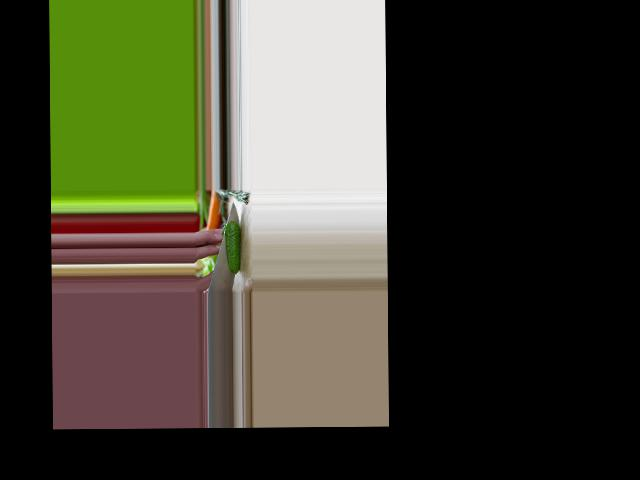cucumber: (225, 220, 241, 273)
